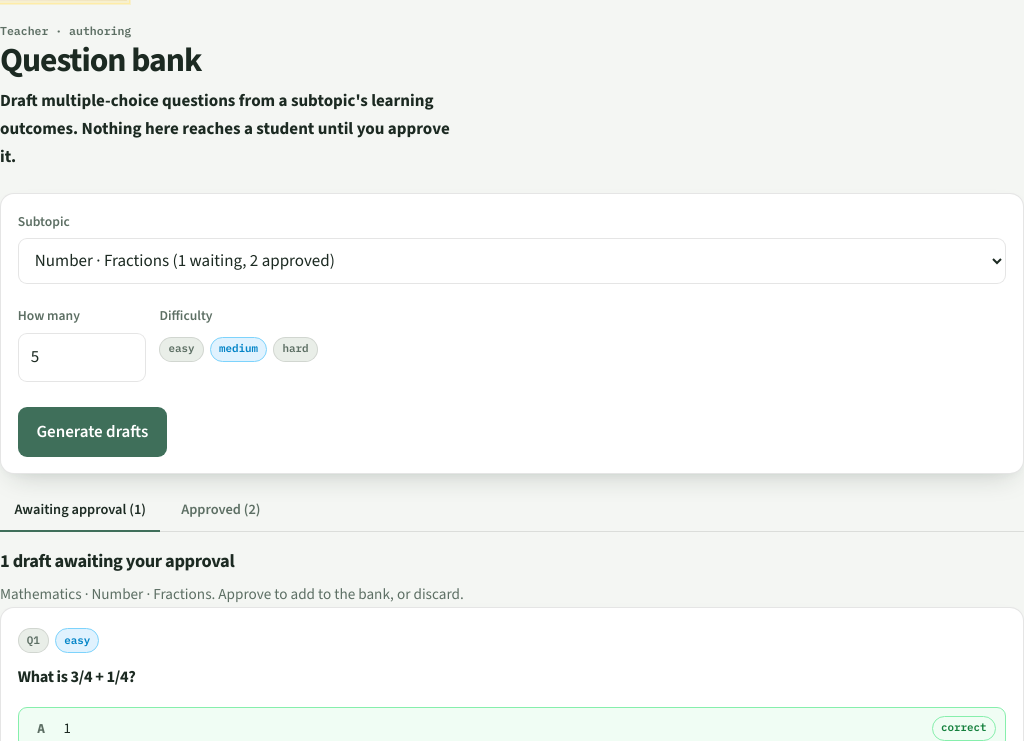
Test: QuestionBankPage › shows the approved bank, without approve buttons, when that tab is chosen
Expected: the heading "What is 3/4 + 1/4?" is shown, [18, 666, 136, 687]
Click the tab "Approved (2)" at [221, 511], box [167, 490, 275, 532]
(page scrolled)
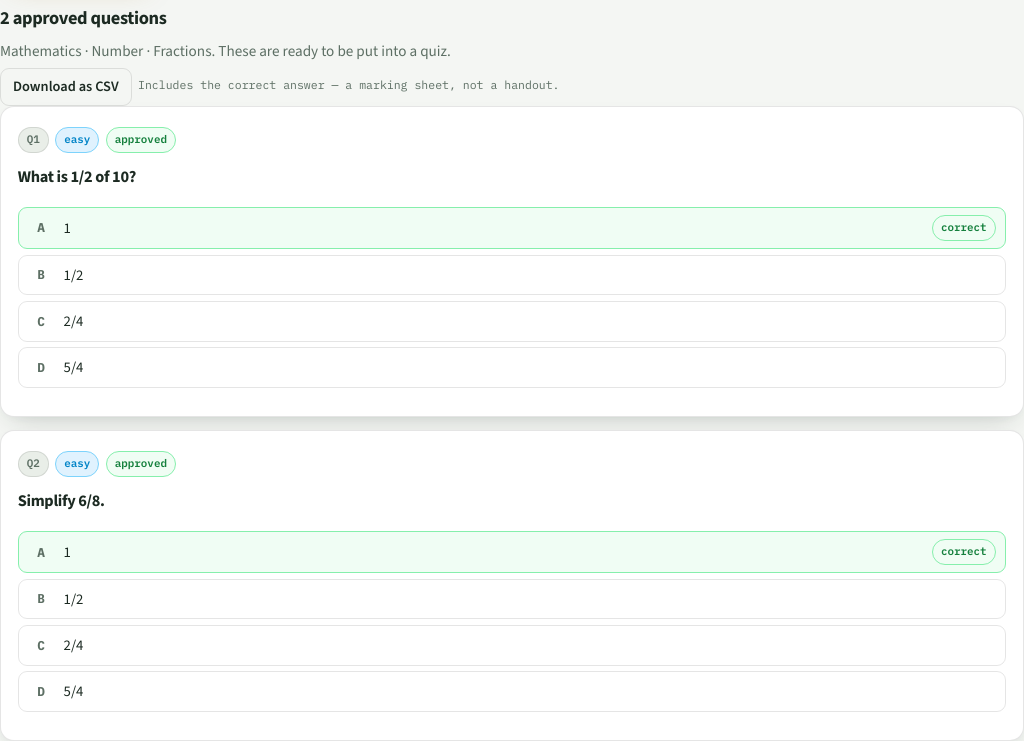
Result: the heading "What is 1/2 of 10?" is shown at [18, 166, 136, 187]
Result: the heading "Simplify 6/8." is shown at [18, 490, 105, 511]
